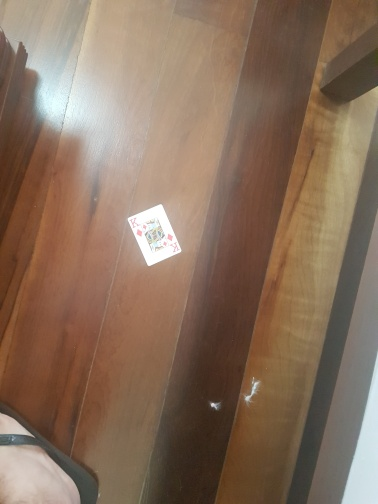king: (128, 203, 183, 267)
